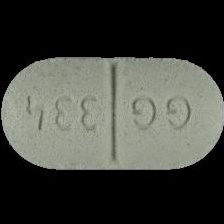63629-1837: (0, 0, 224, 224)
